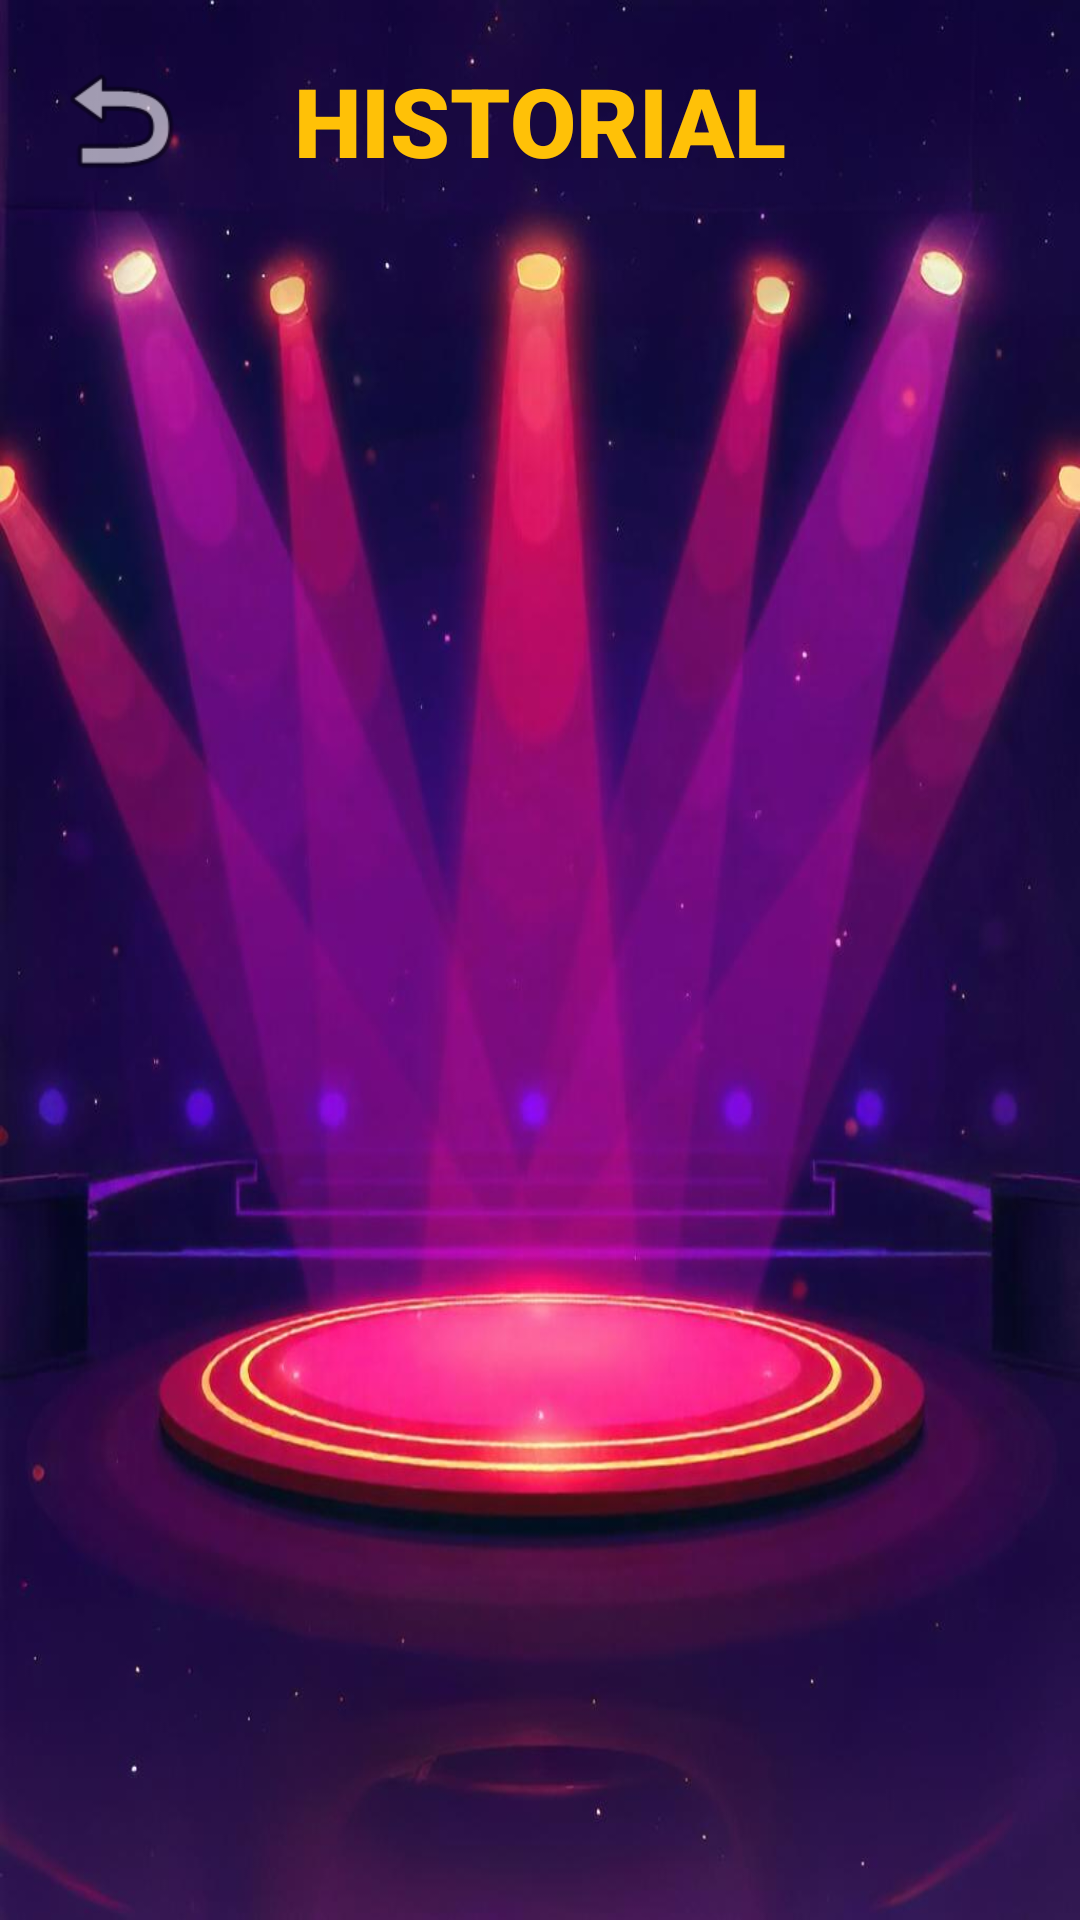

Icon click points for this 1080x1920 phone screenshot, format point (x, y):
revert: point (118, 116)
